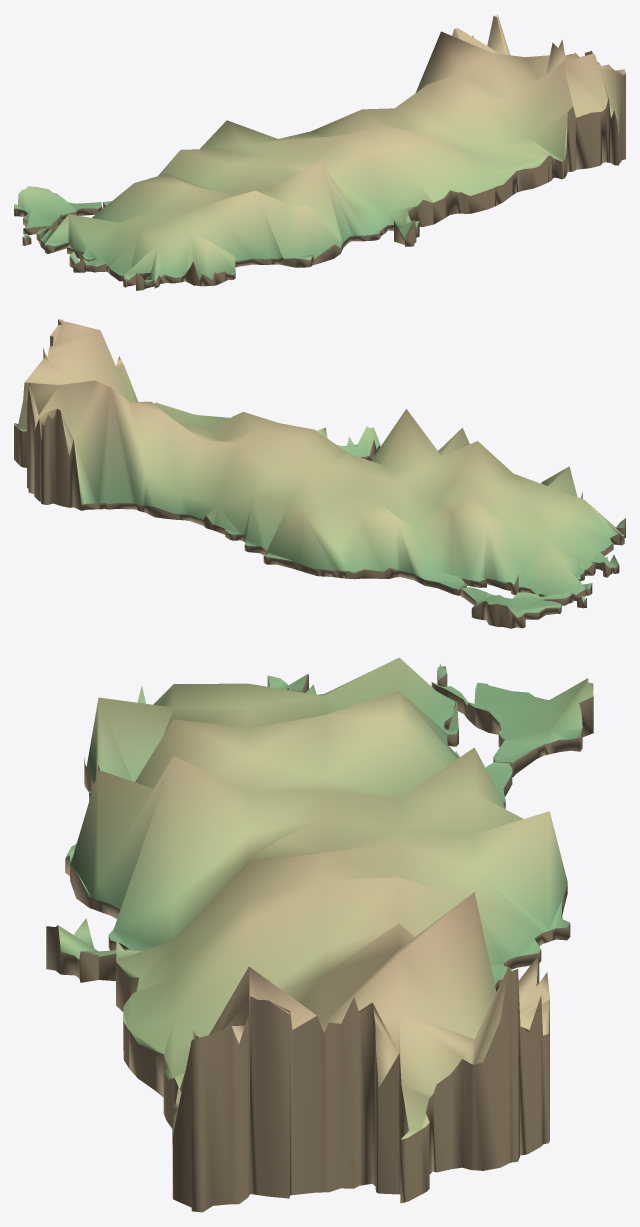
File: TUR.glb
The picture shows the model from 3 angles, top to bottom: view 1: azimuth 30°, elevation 25°; view 2: azimuth 150°, elevation 25°; view 3: azimuth 270°, elevation 25°; orthographic projection. The views are drawn at different scales.
Visible parts, largest first — view 1: TUR; view 2: TUR; view 3: TUR.
Boxes of the visible parts, x1=… form: TUR: x1=14, y1=14, x2=625, y2=290; TUR: x1=14, y1=319, x2=625, y2=628; TUR: x1=46, y1=657, x2=593, y2=1212.
Size of the model in its own units: 1.85 by 0.338 by 0.8061.
